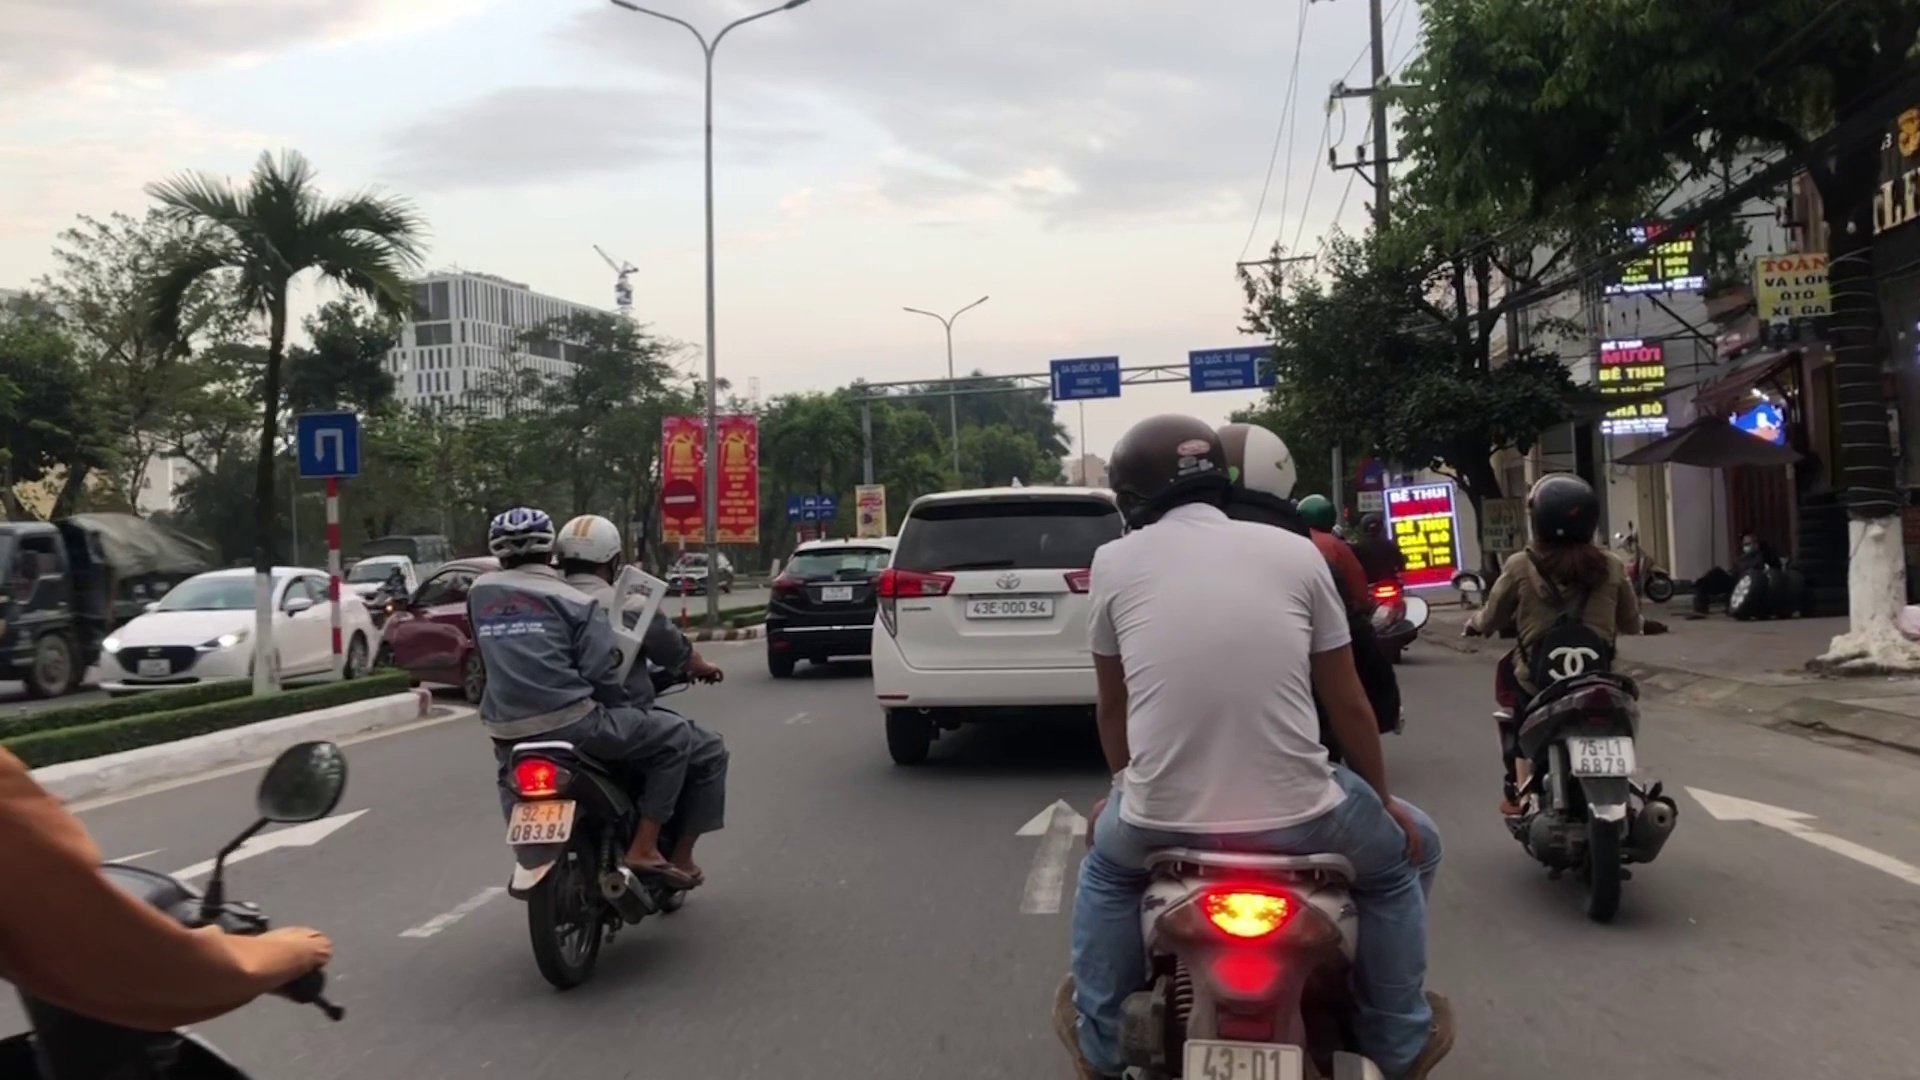Bien khac: (295, 413, 357, 480)
Cam di nguoc chieu: (662, 475, 698, 524)
